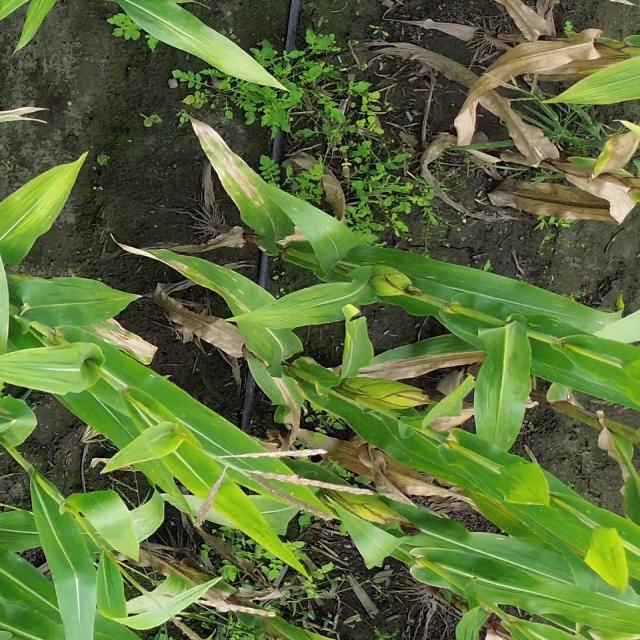gray-leaf-spot: (390, 260, 582, 336), (167, 246, 307, 350)
northern-leaf-blight: (192, 122, 326, 236), (76, 311, 180, 373)
southern-leaf-blight: (372, 423, 531, 494), (58, 505, 184, 559)
